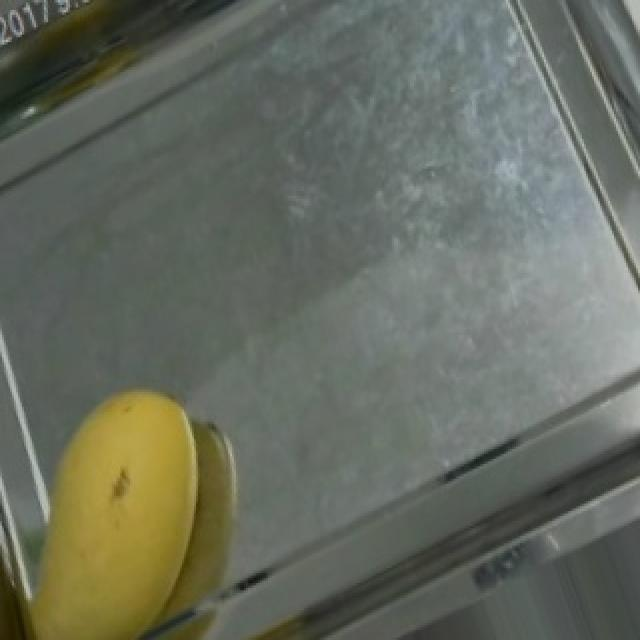fruit: (0, 352, 278, 640)
